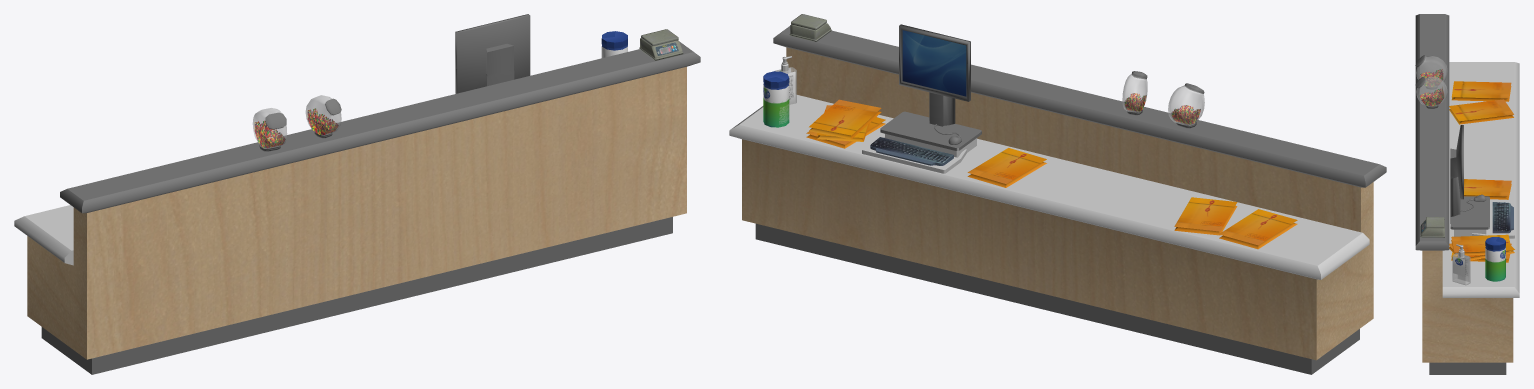
Rendered from Desk_by_nursing_station.fbx.
3 views of the same model, side by side, from view 1: azimuth 30°, elevation 25°; view 2: azimuth 150°, elevation 25°; view 3: azimuth 270°, elevation 25° (orthographic). The views are drawn at different scales.
Parts seen in each view (by area): view 1: desk, monitor, jar2, jar, hand_wipes, baby_scale; view 2: desk, monitor, countertop, folder2, folder5, folder, folder4, hand_wipes, jar2, keyboard, jar, keyboard_support; view 3: desk, countertop, folder4, folder5, monitor, hand_wipes, folder2, jar, folder, jar2, keyboard, soap_bottle (+7 smaller).
Boxes of the visible parts, x1=… form: desk: x1=14, y1=41, x2=700, y2=374; monitor: x1=455, y1=14, x2=530, y2=93; jar2: x1=252, y1=108, x2=287, y2=151; jar: x1=305, y1=95, x2=341, y2=138; hand_wipes: x1=601, y1=31, x2=627, y2=58; baby_scale: x1=639, y1=38, x2=683, y2=60; desk: x1=729, y1=26, x2=1386, y2=374; monitor: x1=899, y1=24, x2=970, y2=126; countertop: x1=880, y1=111, x2=981, y2=157; folder2: x1=967, y1=148, x2=1046, y2=187; folder5: x1=1219, y1=209, x2=1297, y2=249; folder: x1=809, y1=99, x2=881, y2=139; folder4: x1=1174, y1=197, x2=1237, y2=235; hand_wipes: x1=763, y1=71, x2=789, y2=127; jar2: x1=1168, y1=83, x2=1204, y2=128; keyboard: x1=870, y1=137, x2=953, y2=165; jar: x1=1122, y1=71, x2=1147, y2=115; keyboard_support: x1=862, y1=135, x2=966, y2=173; desk: x1=1415, y1=14, x2=1519, y2=374; countertop: x1=1450, y1=196, x2=1489, y2=236; folder4: x1=1449, y1=99, x2=1513, y2=124; folder5: x1=1451, y1=81, x2=1511, y2=101; monitor: x1=1450, y1=125, x2=1463, y2=223; hand_wipes: x1=1485, y1=237, x2=1505, y2=281; folder2: x1=1464, y1=179, x2=1511, y2=199; jar: x1=1415, y1=76, x2=1447, y2=108; folder: x1=1451, y1=234, x2=1511, y2=255; jar2: x1=1415, y1=55, x2=1447, y2=89; keyboard: x1=1492, y1=202, x2=1513, y2=233; soap_bottle: x1=1452, y1=253, x2=1470, y2=285.
Bounding box in the file's own units: 8.92 × 3.2 × 1.71.
Materials: 10 (7 with a texture image).
